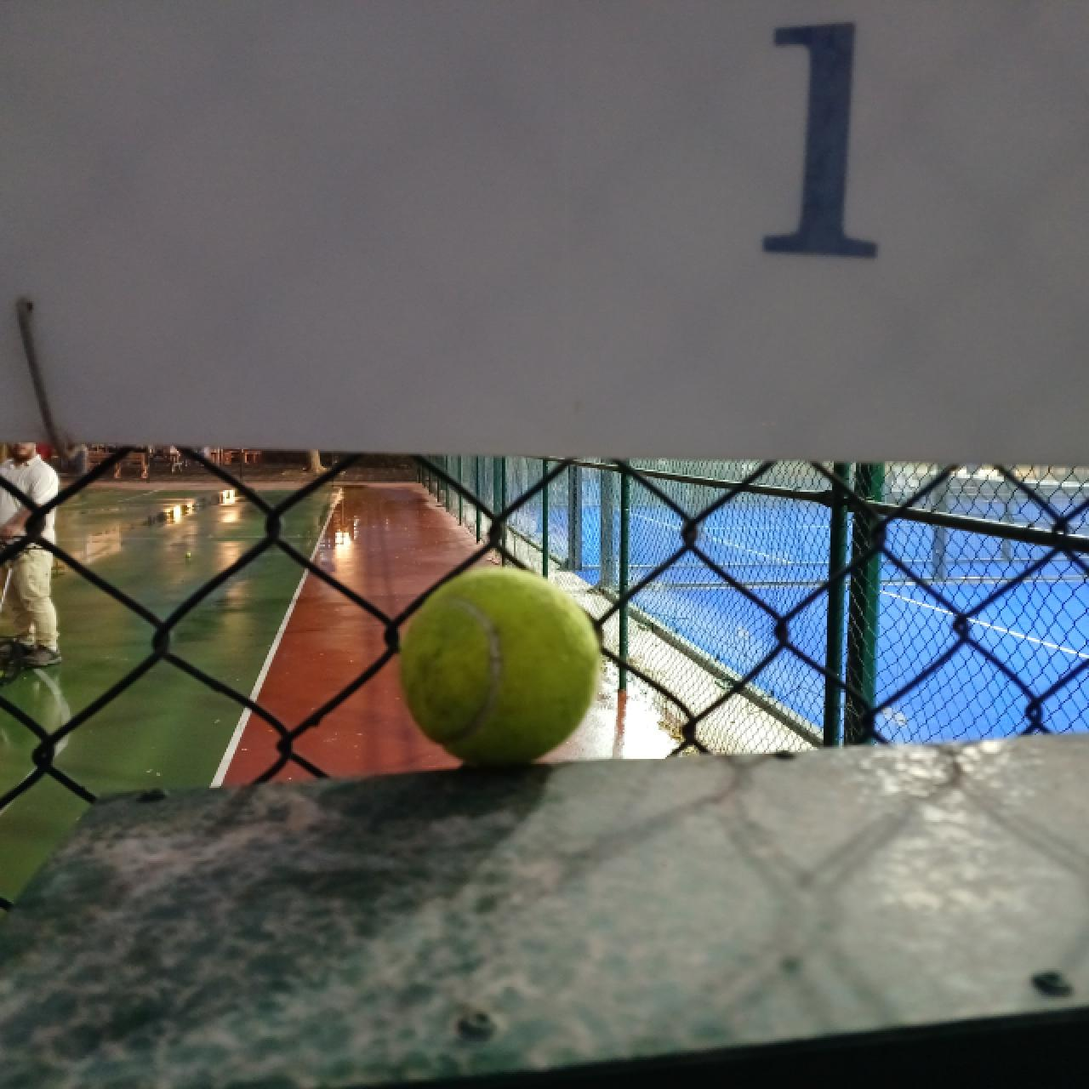tennis-ball: (401, 566, 600, 770), (186, 552, 191, 558)
